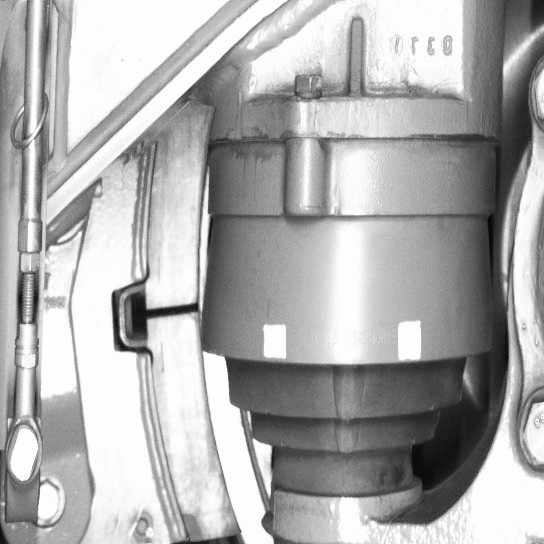ClosedKnifeSwitch: (134, 137, 247, 541)
